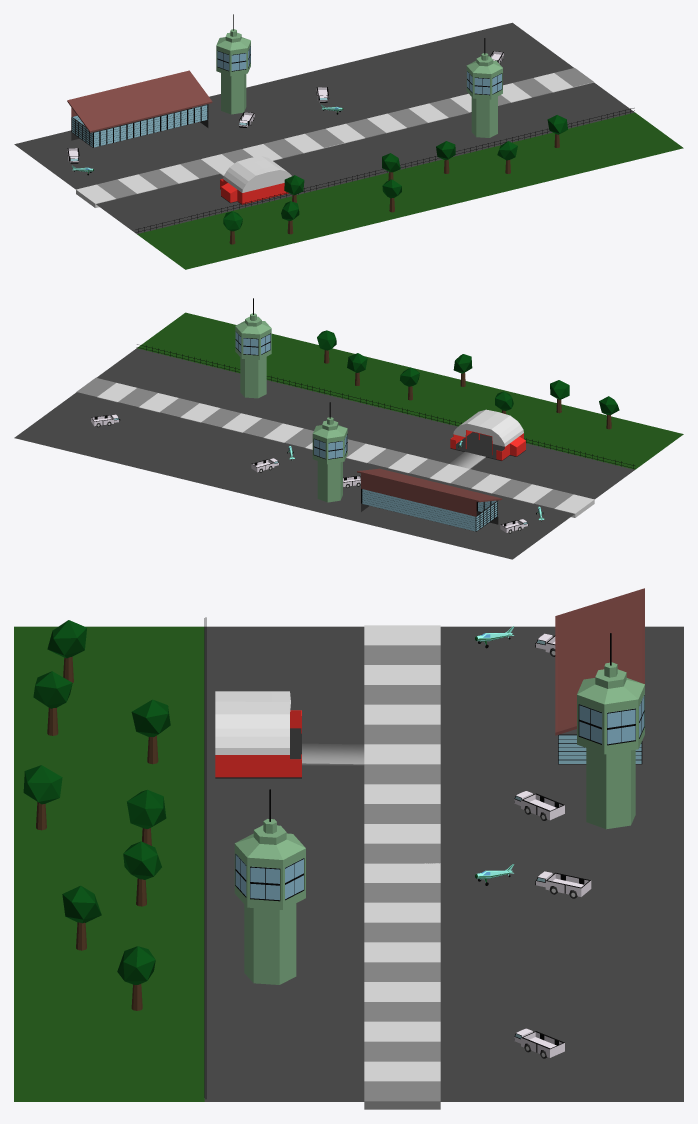
The model's file is Airport2.fbx.
The picture shows the model from 3 angles, top to bottom: view 1: azimuth 30°, elevation 25°; view 2: azimuth 150°, elevation 25°; view 3: azimuth 270°, elevation 25°; orthographic projection. The views are drawn at different scales.
Parts seen in each view (by area): view 1: Cylinder.011; view 2: Cylinder.011; view 3: Cylinder.011.
Boxes of the visible parts, box(x1,y1,x2,y2) form: Cylinder.011: box(14, 14, 683, 269); Cylinder.011: box(14, 298, 683, 559); Cylinder.011: box(14, 588, 683, 1109).
Bounding box in the file's own units: 11853 × 2236 × 7048.
